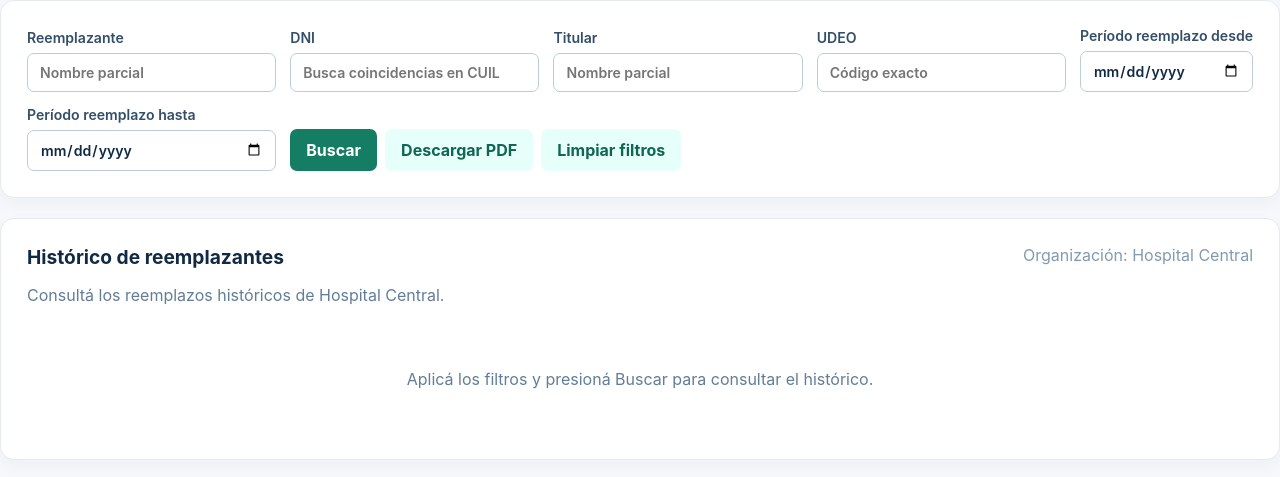
History › fija la organización permitida para usuarios no globales y oculta el selector
Click the button "Buscar" at (334, 150), box left=290, top=129, right=377, bottom=171
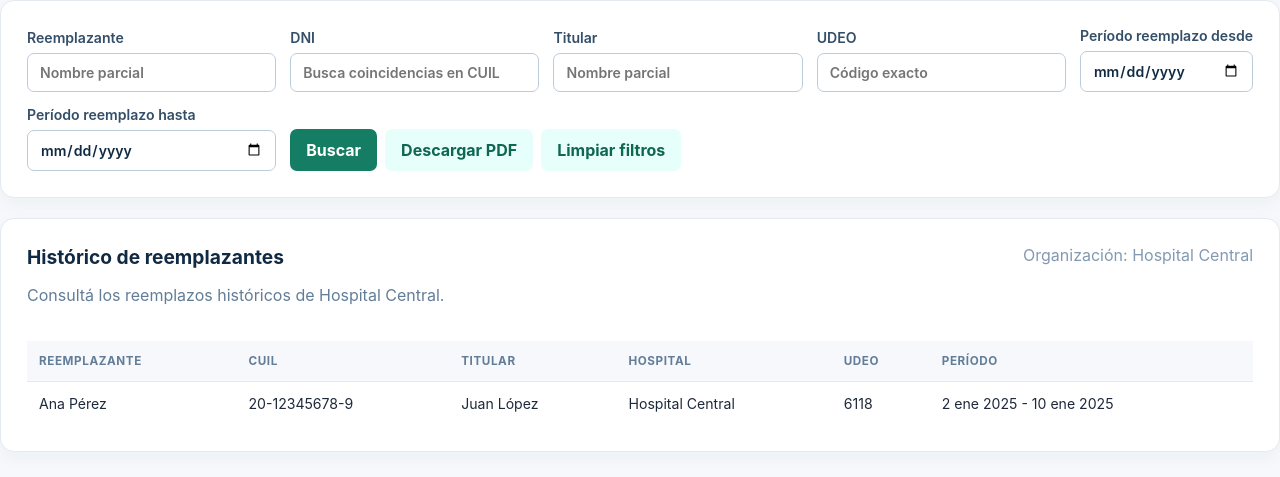
Expected: the text "Ana Pérez" is shown, left=27, top=382, right=236, bottom=425
